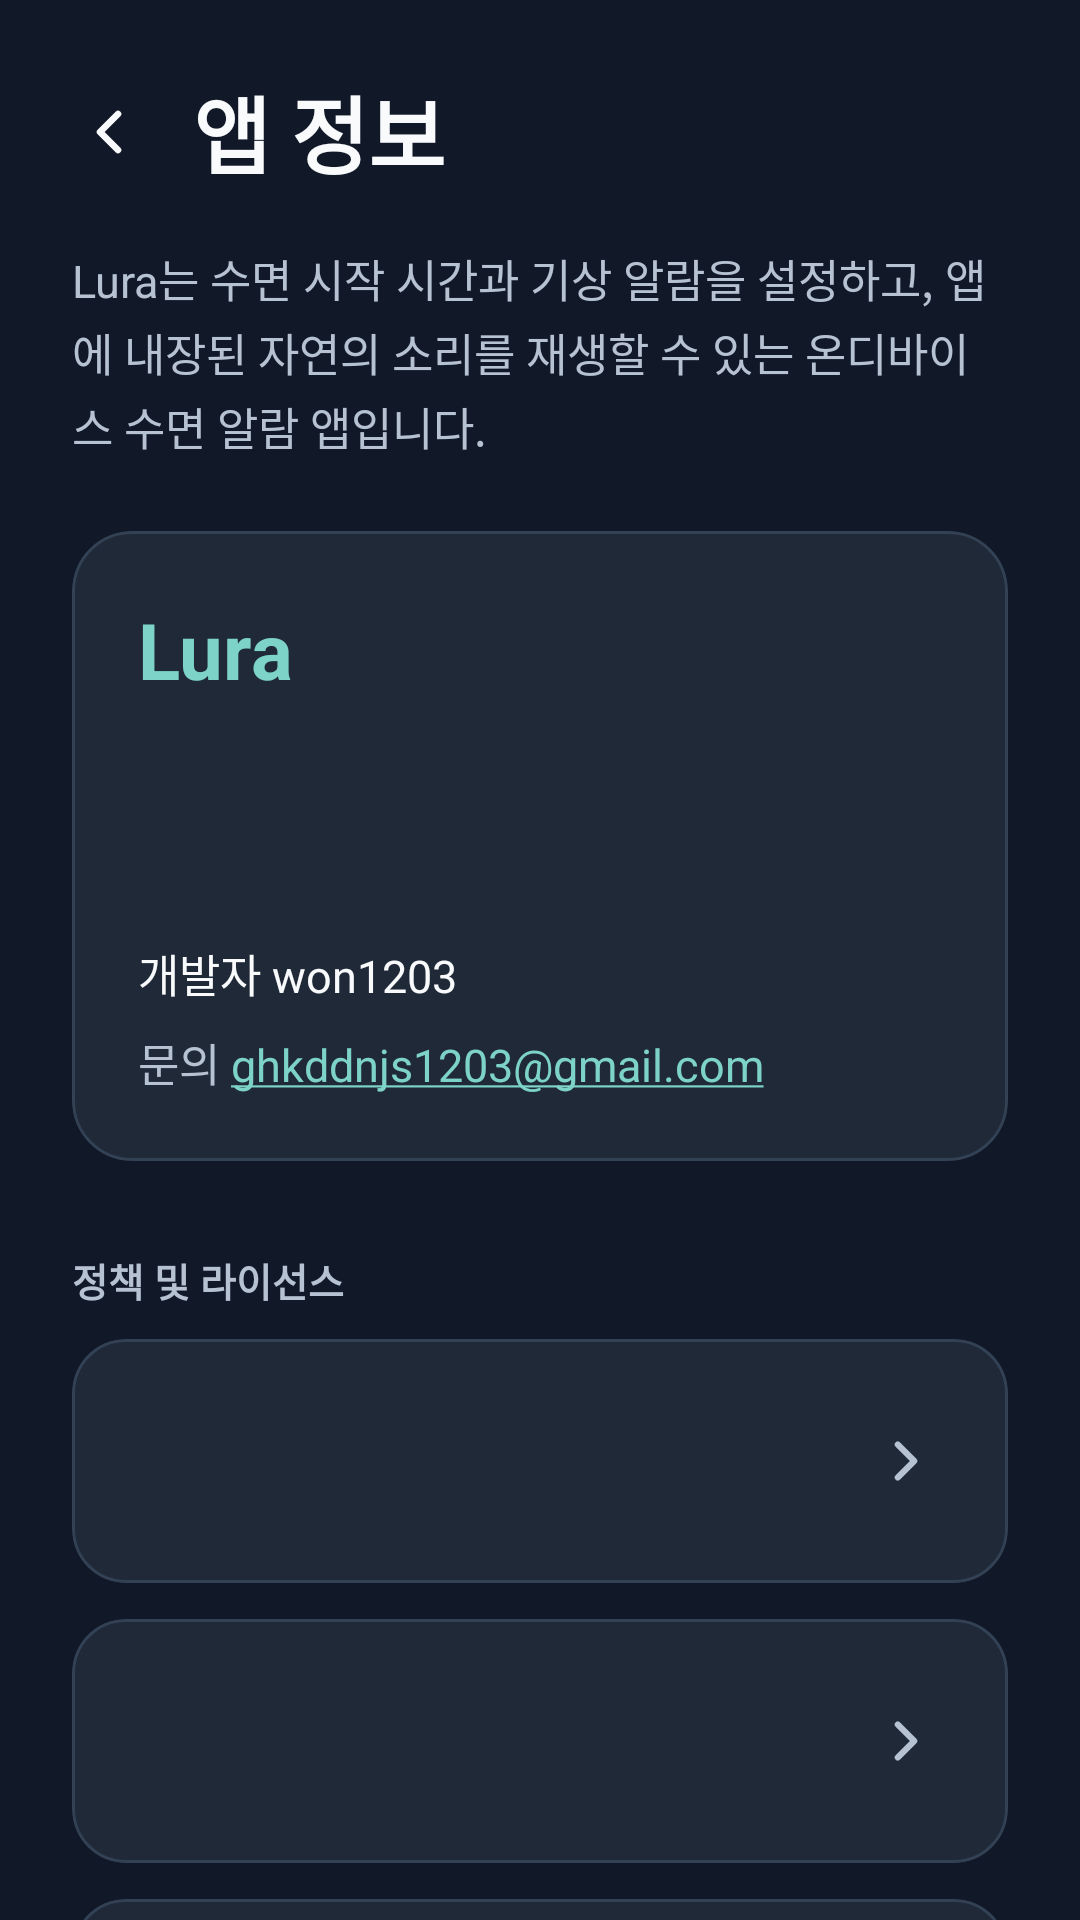

Named icons in this screenshot (1080×1920) and their bounding boxes, detection(x1, y1, x2, y2):
chevron right: detection(894, 1441, 918, 1481), detection(894, 1721, 918, 1761)
